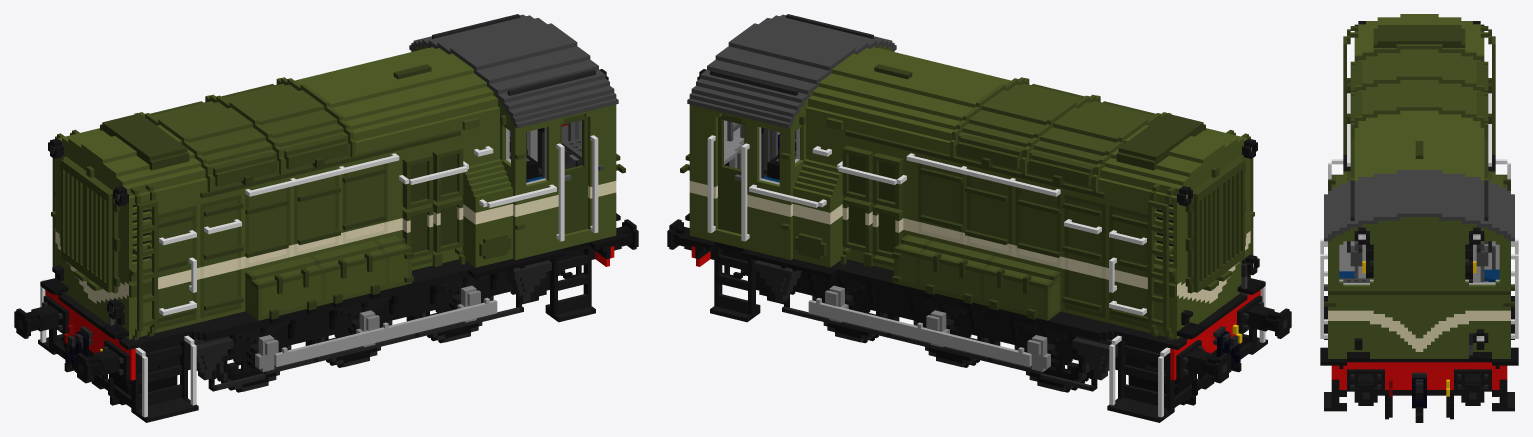
3 views of the same model, side by side, from view 1: azimuth 30°, elevation 25°; view 2: azimuth 150°, elevation 25°; view 3: azimuth 270°, elevation 25° (orthographic). The views are drawn at different scales.
Visible parts, largest first — view 1: FRAME, SIDE_ROD_LEFT, FRAME_WHEEL_1, FRAME_WHEEL_2, FRAME_WHEEL_3; view 2: FRAME, SIDE_ROD_RIGHT, FRAME_WHEEL_1, FRAME_WHEEL_2, FRAME_WHEEL_3; view 3: FRAME.
Boxes of the visible parts, left/top/right/bottom form: FRAME: left=14, top=14, right=638, bottom=422; SIDE_ROD_LEFT: left=274, top=297, right=497, bottom=366; FRAME_WHEEL_1: left=216, top=335, right=291, bottom=392; FRAME_WHEEL_2: left=317, top=310, right=392, bottom=367; FRAME_WHEEL_3: left=418, top=285, right=493, bottom=343; FRAME: left=667, top=14, right=1291, bottom=422; SIDE_ROD_RIGHT: left=808, top=297, right=1031, bottom=366; FRAME_WHEEL_1: left=1014, top=335, right=1089, bottom=392; FRAME_WHEEL_2: left=913, top=310, right=988, bottom=367; FRAME_WHEEL_3: left=812, top=285, right=887, bottom=343; FRAME: left=1320, top=14, right=1518, bottom=422.
Bounding box in the file's own units: 9.19 × 4.06 × 3.25.
1 material, 1 textured.
